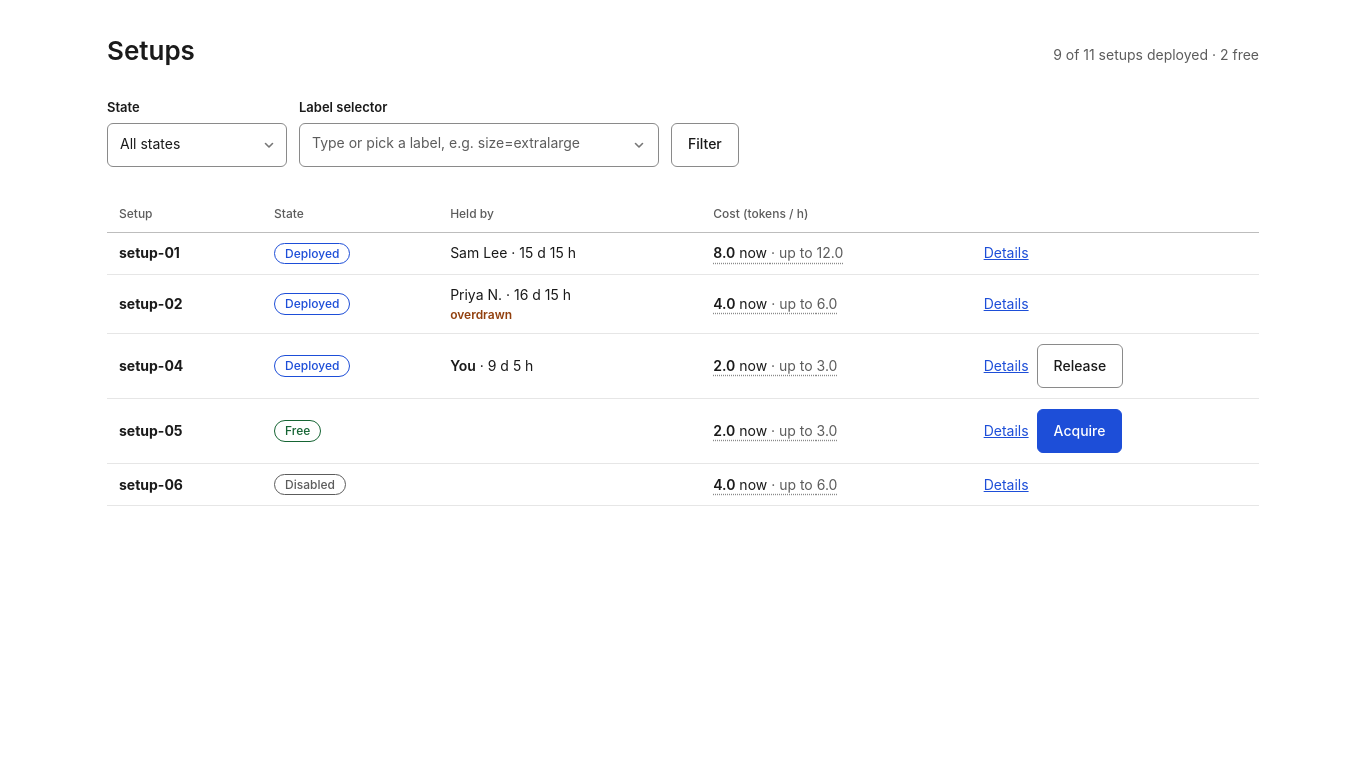
Scenario: Setups page › A2.7-11 Acquire closes on a backdrop click like Cancel and focus returns to the Acquire button
This screenshot has width=1366, height=768.
What coordinates should you click on to do the following:
click the button with aria-label "Acquire setup-05"
I would click on:
 (1080, 431)
Its box is top-left (1037, 409), bottom-right (1122, 453).
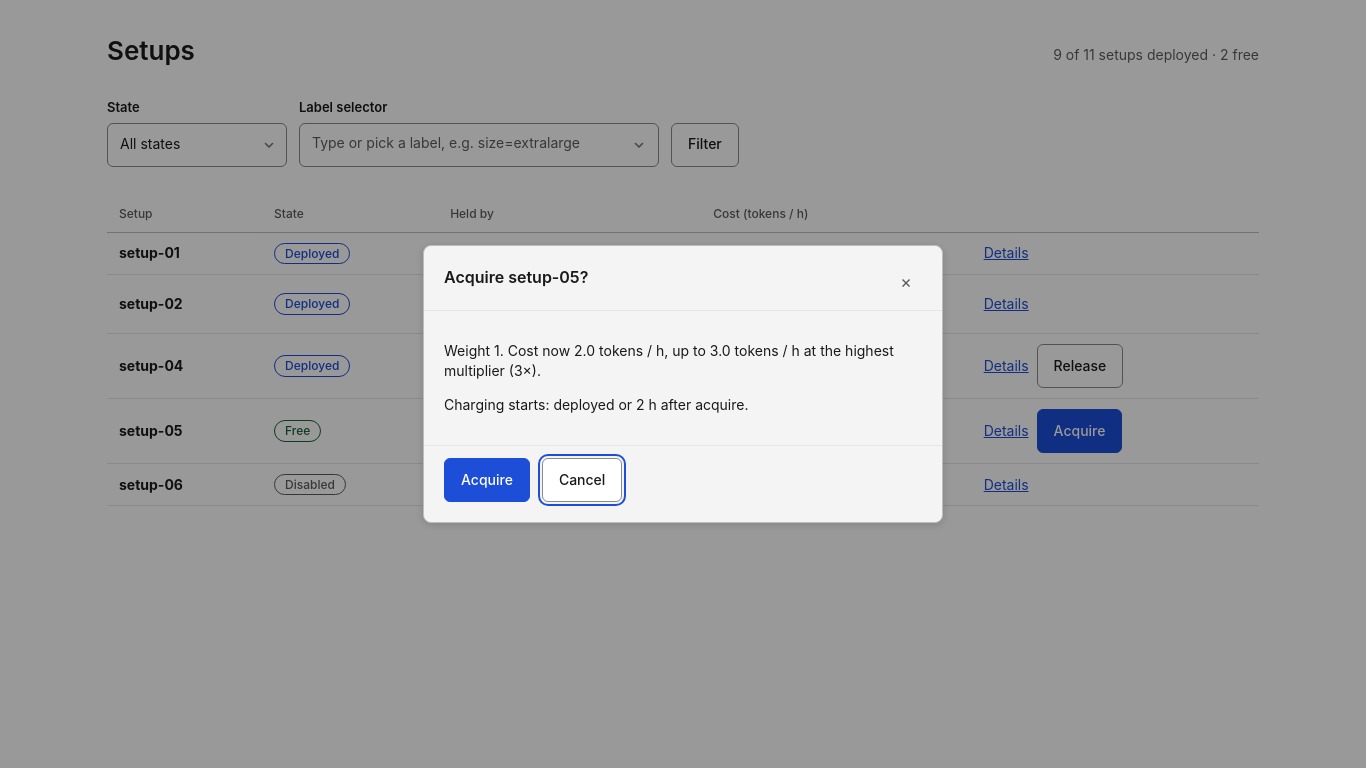
What coordinates should you click on to do the following:
click the element that starts with "Acquire setup-05?"
I would click on:
 (82, 384)
Its box is top-left (0, 0), bottom-right (1365, 767).
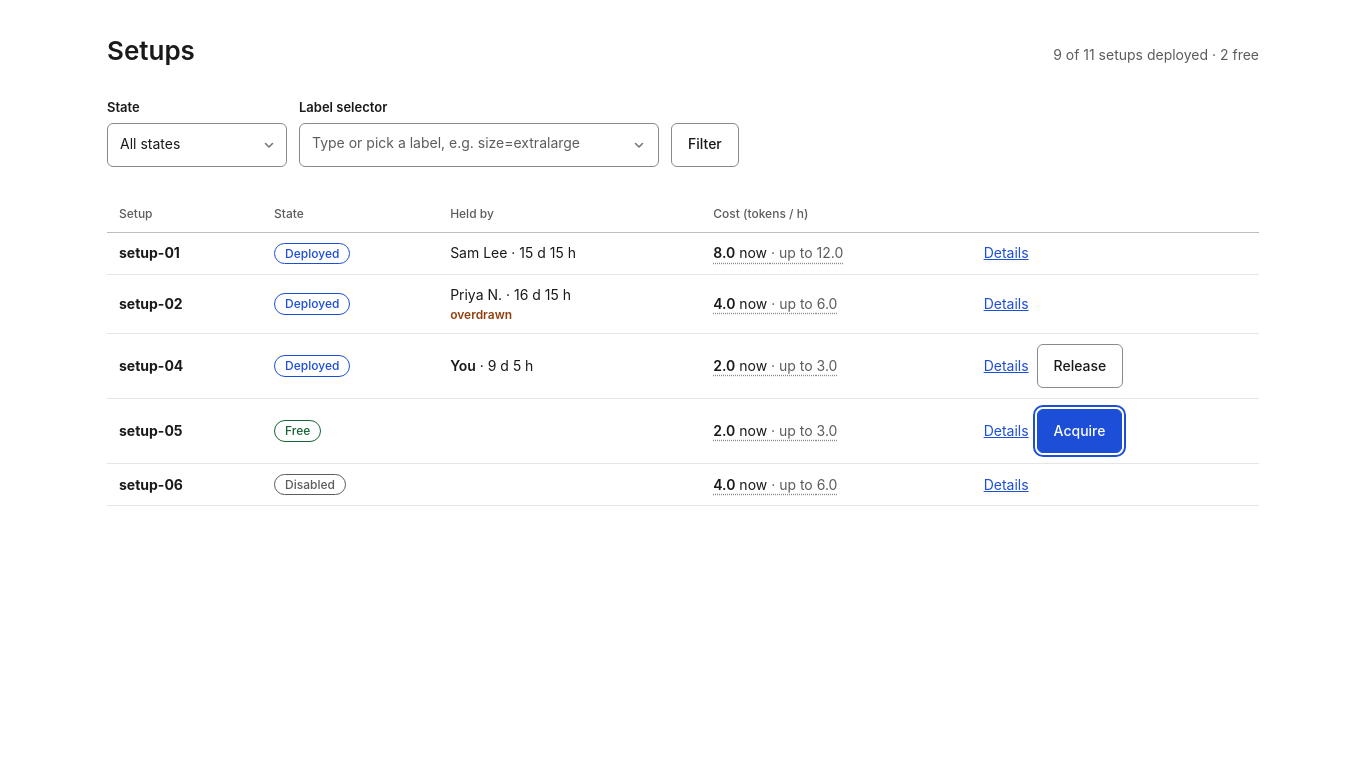
Now the dialog is gone
